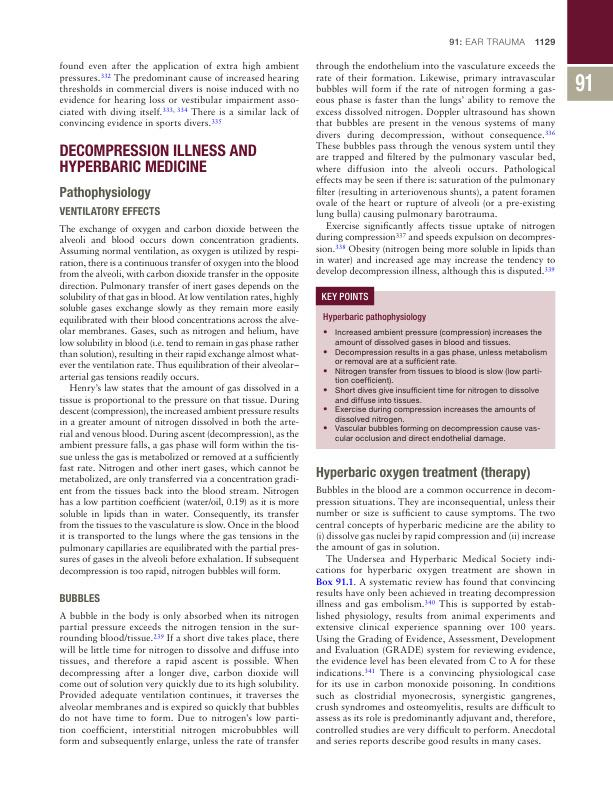caption: (321, 290, 369, 302)
header: (448, 36, 527, 46)
list: (322, 328, 548, 444)
section-heading: (58, 142, 258, 174)
sub-section-heading: (315, 465, 531, 481), (59, 185, 152, 201), (322, 312, 427, 323), (58, 205, 161, 216), (58, 592, 101, 603)
text: (57, 223, 301, 579), (315, 484, 557, 747), (313, 59, 556, 277), (58, 611, 300, 747), (58, 59, 301, 130)
